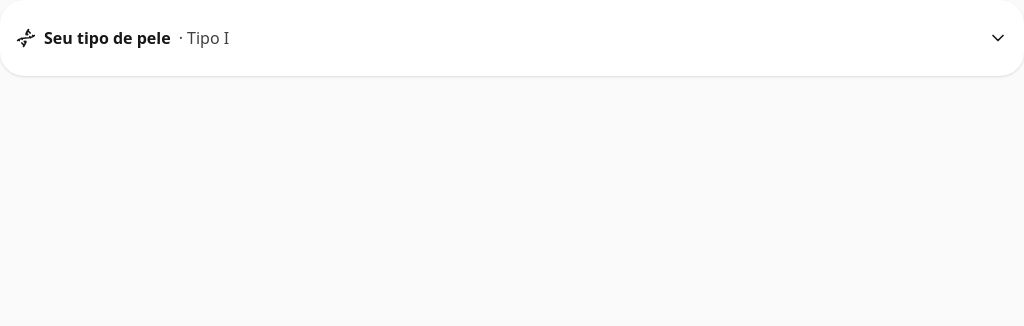
Test: PhototypePicker › explica a ligação com a genética
What coordinates should you click on to do the following:
click the button "Seu tipo de pele · Tipo I"
I would click on:
 (107, 38)
Its box is [16,16,1008,60].
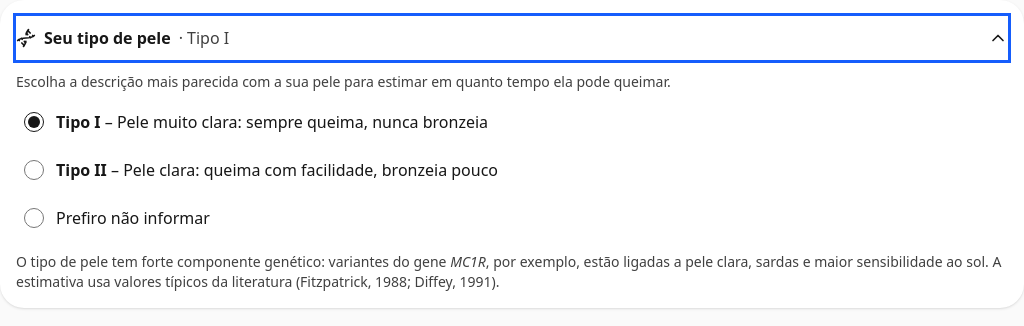
expect the text "MC1R" is shown: met, box [450,252,486,271]
